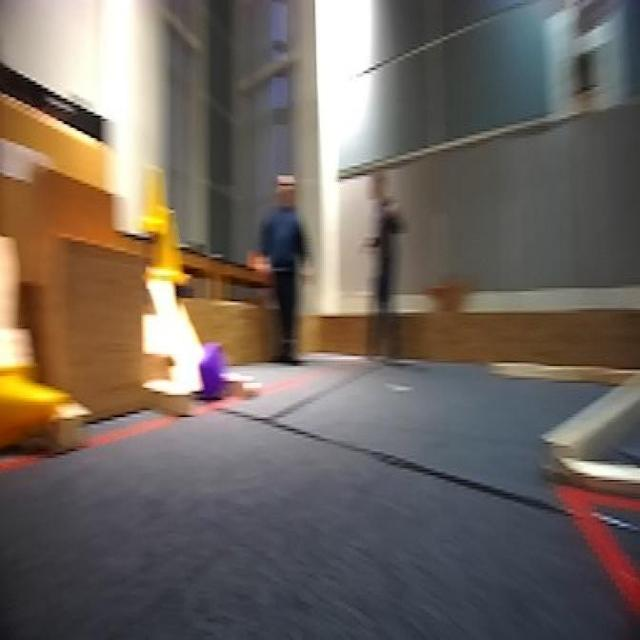frc_cone: (0, 364, 73, 447), (155, 206, 190, 283), (147, 168, 175, 230)
frc_cube: (198, 349, 228, 395)
